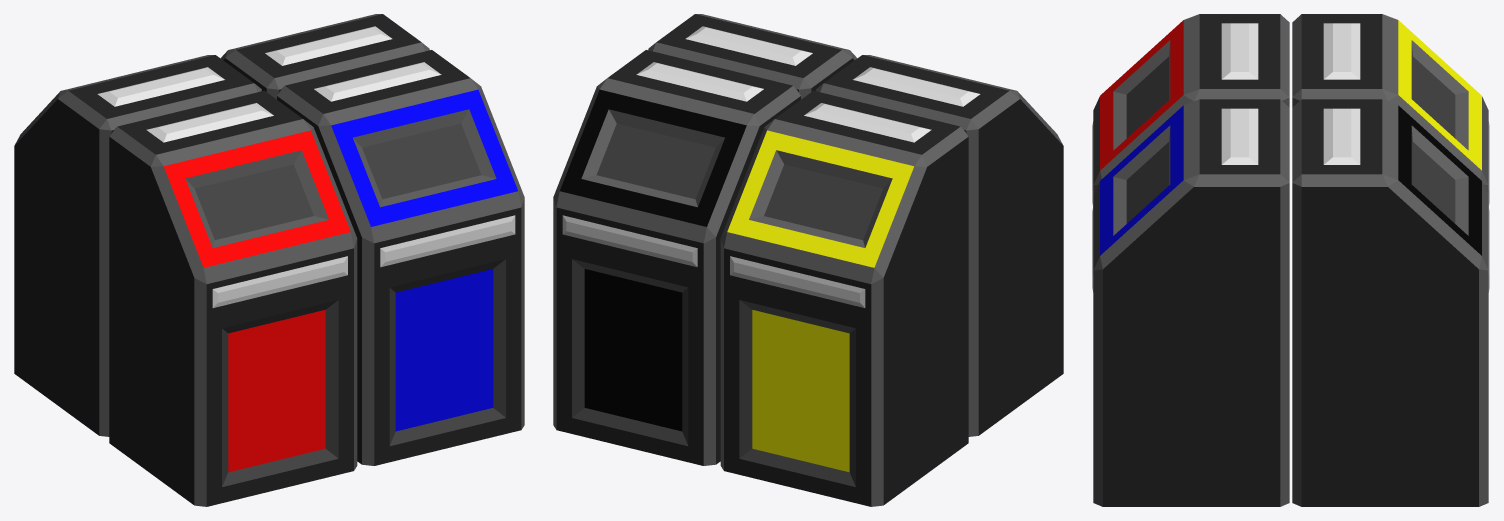
Rendered from TrashBins.fbx.
3 views of the same model, side by side, from view 1: azimuth 30°, elevation 25°; view 2: azimuth 150°, elevation 25°; view 3: azimuth 270°, elevation 25° (orthographic). The views are drawn at different scales.
Visible parts, largest first — view 1: Bin; view 2: Bin; view 3: Bin.
Part boxes in pixels (box(x1,y1,x2,y2)): Bin: box(14, 14, 524, 506); Bin: box(553, 14, 1063, 506); Bin: box(1092, 14, 1489, 506).
Bounding box in the file's own units: 20.7 × 19.08 × 20.67.
